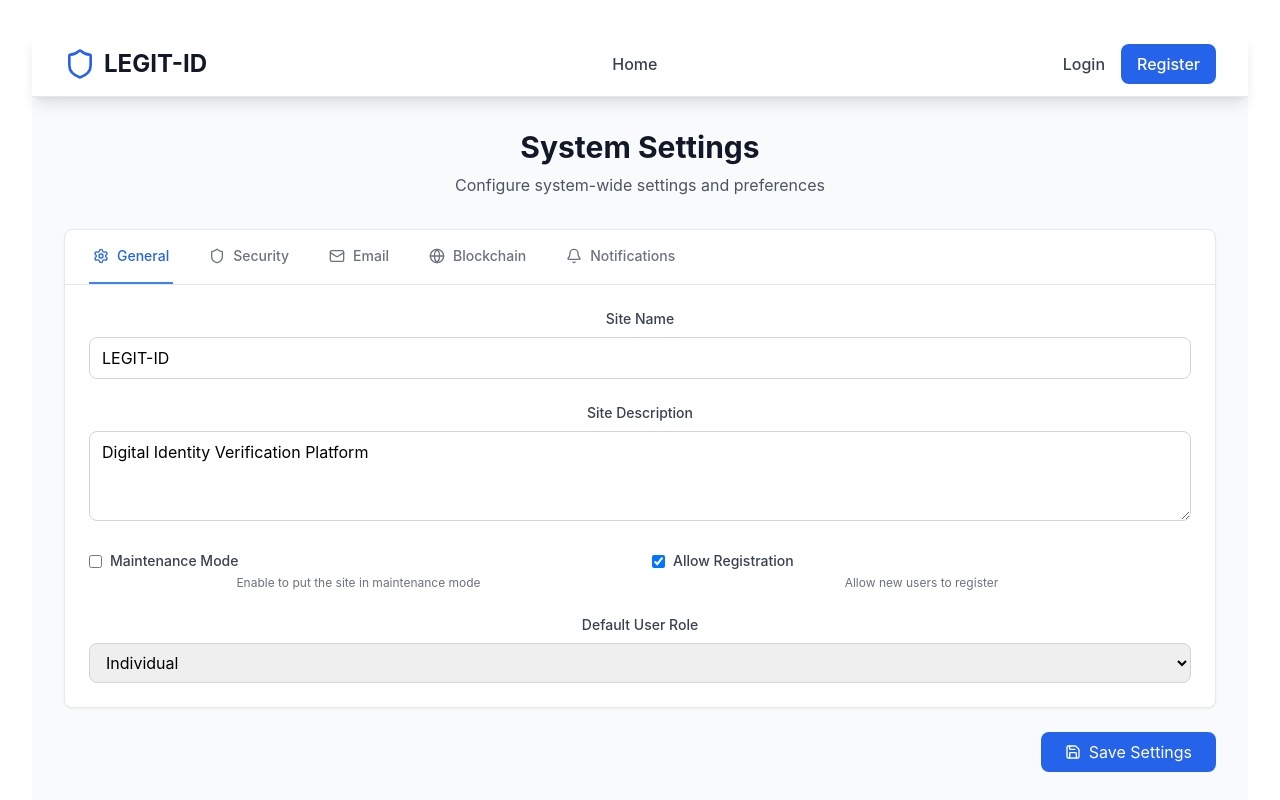
Test: AdminSystemSettingsPage › allows switching between tabs
# Click on Security tab
Click the button "Security": (249, 257) [205,230,293,284]
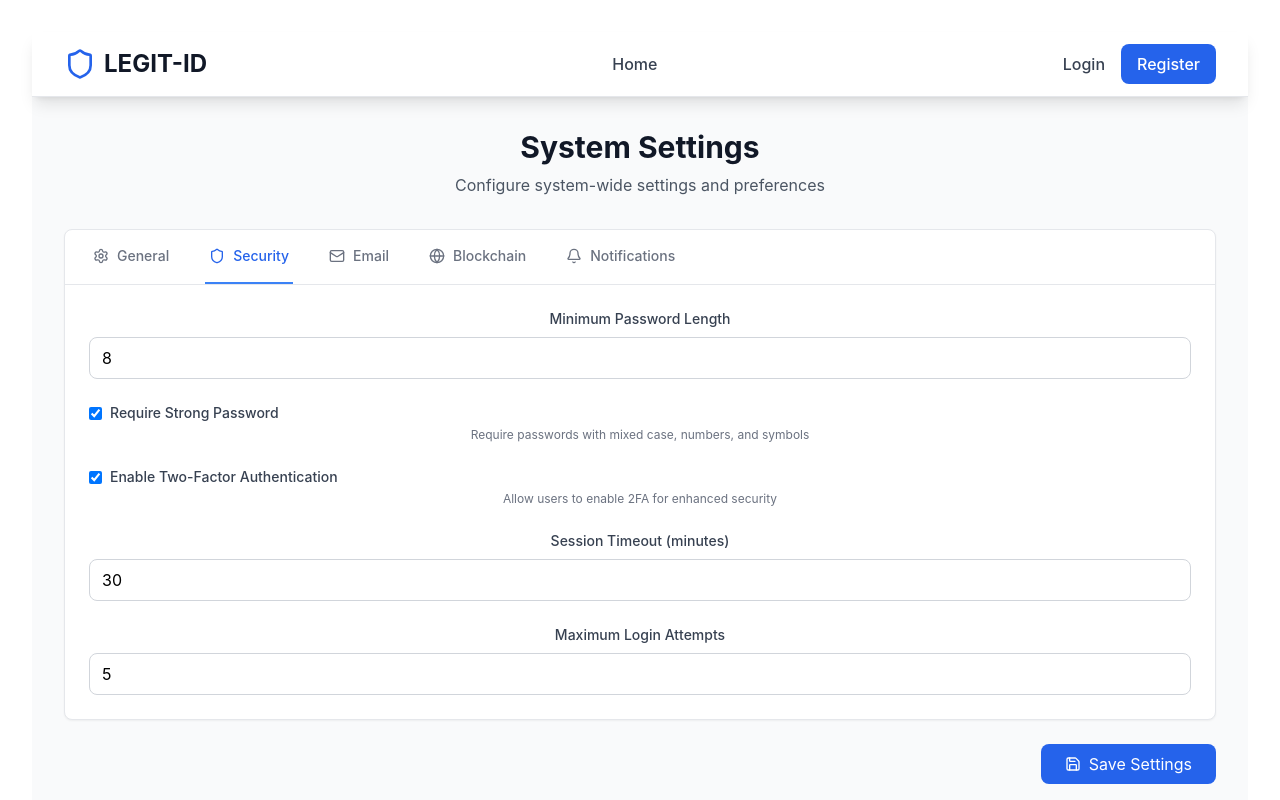
Expected: the text "Minimum Password Length" is shown, [550,310,730,327]
Expected: the text "Require Strong Password" is shown, [110,403,279,423]
Expected: the text "Enable Two-Factor Authentication" is shown, [110,467,338,487]
